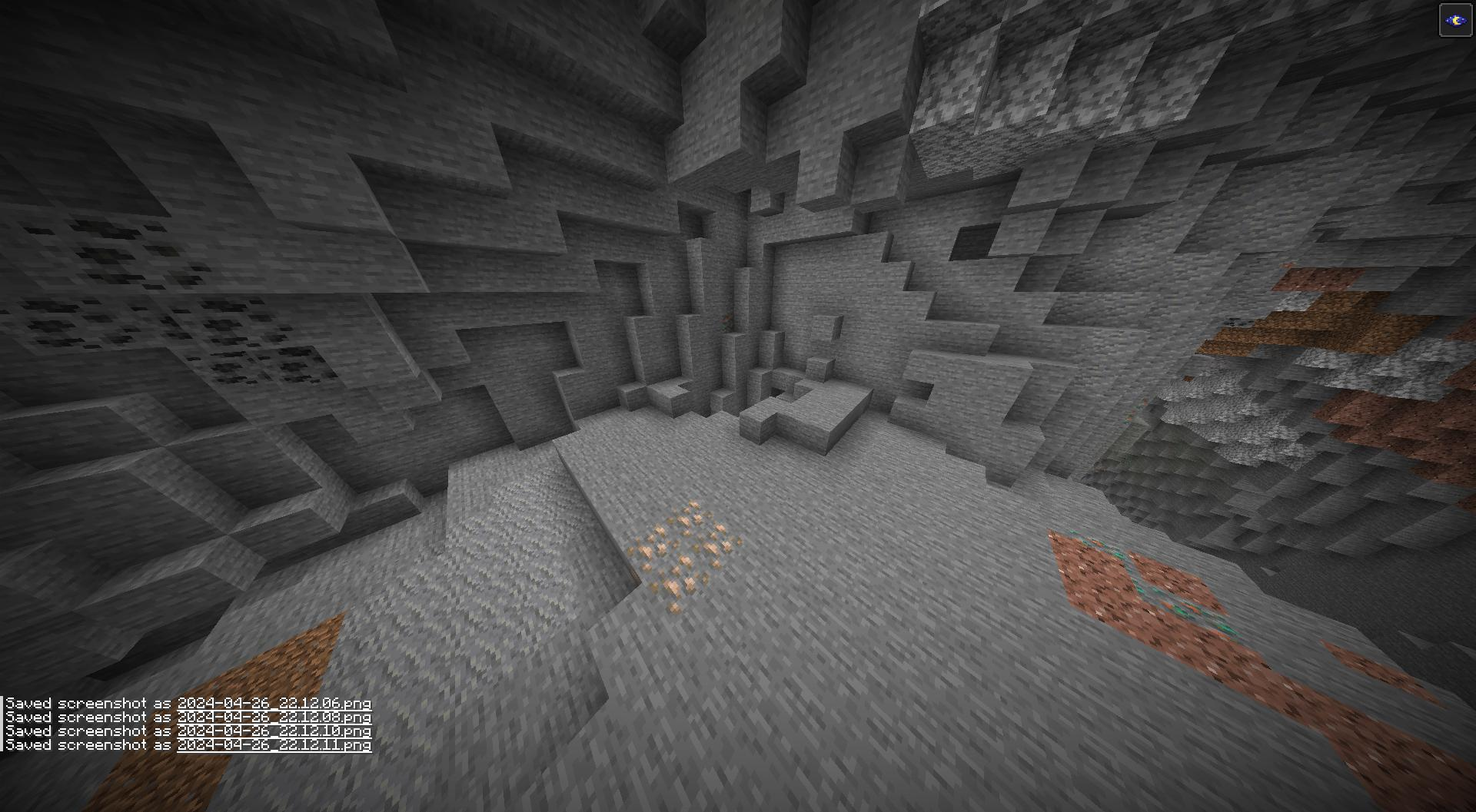iron ore: (656, 560, 702, 608), (694, 522, 740, 567), (631, 529, 674, 564), (673, 499, 709, 536)
